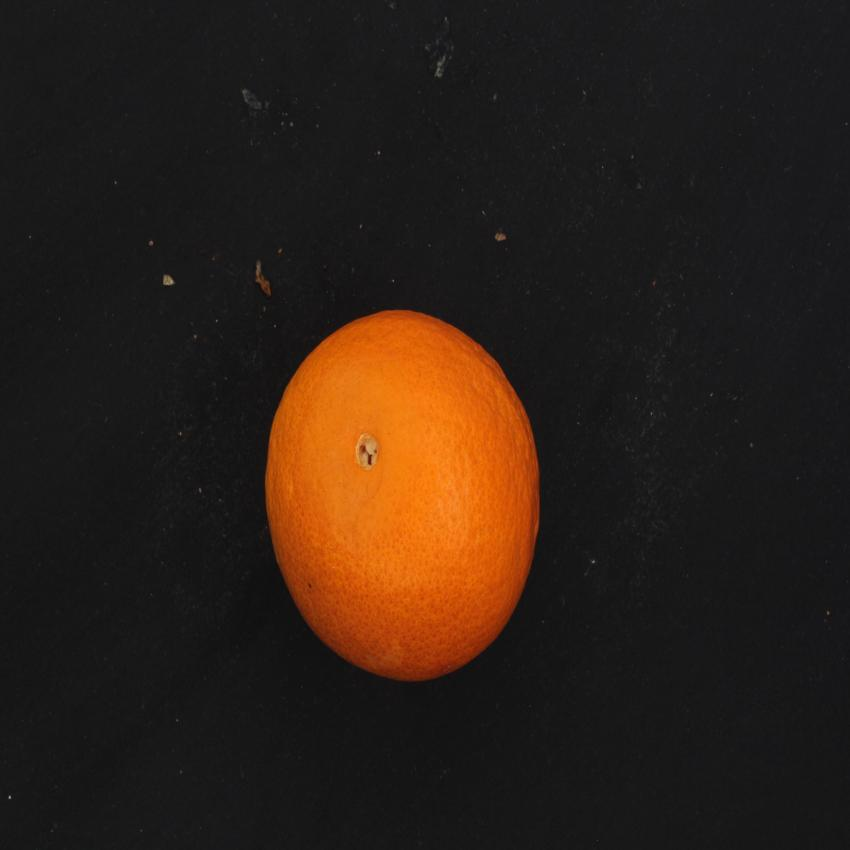Mal estado: (261, 300, 548, 687)
